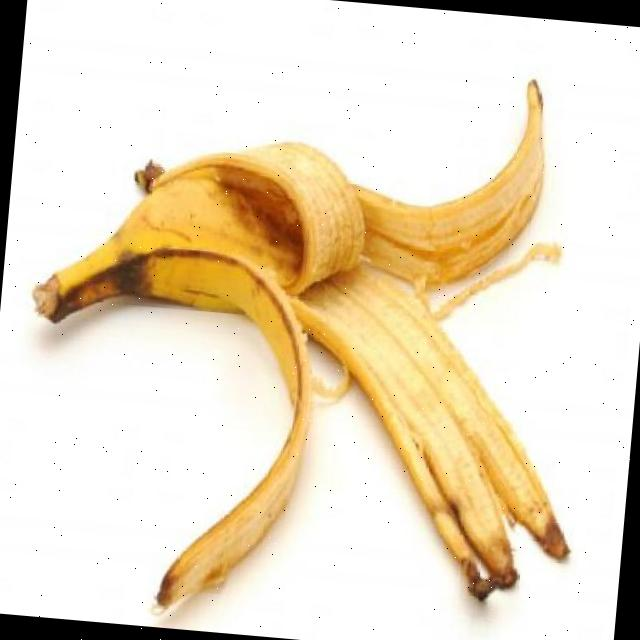banana-peel: (4, 35, 610, 640)
